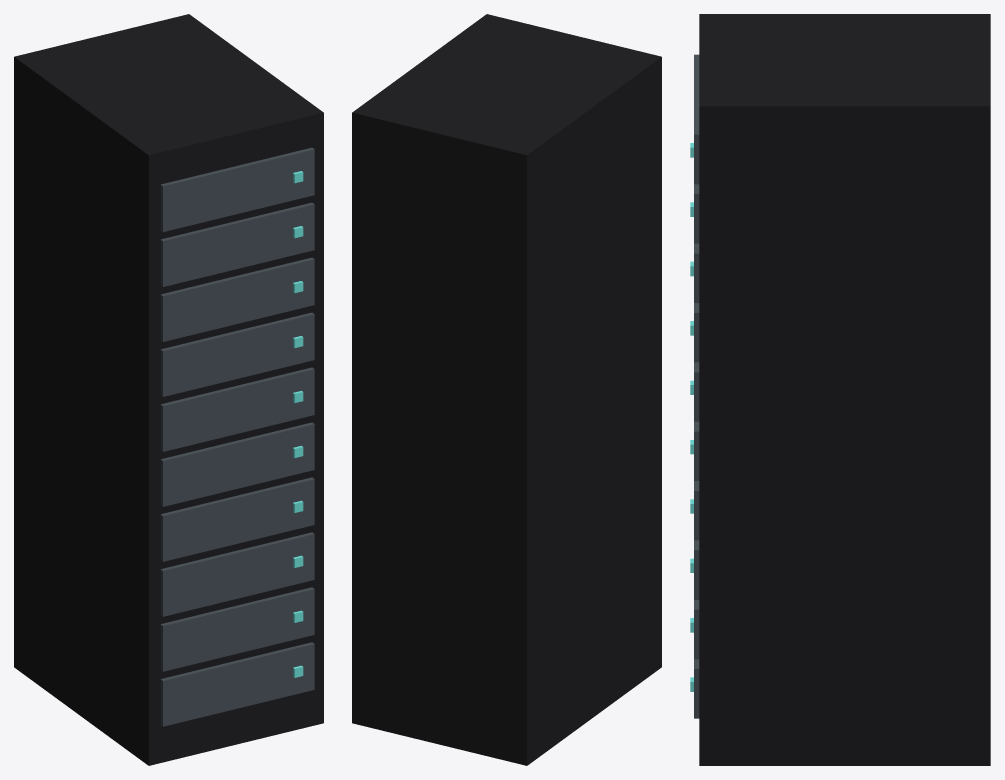
The model's file is GH_ServerRack_01.glb.
The picture shows the model from 3 angles, left to right: view 1: azimuth 30°, elevation 25°; view 2: azimuth 150°, elevation 25°; view 3: azimuth 270°, elevation 25°; orthographic projection. The views are drawn at different scales.
Visible parts, largest first — view 1: GH_ServerRack_01; view 2: GH_ServerRack_01; view 3: GH_ServerRack_01.
Boxes of the visible parts, x1=… form: GH_ServerRack_01: x1=14, y1=14, x2=323, y2=765; GH_ServerRack_01: x1=352, y1=14, x2=661, y2=765; GH_ServerRack_01: x1=690, y1=14, x2=990, y2=765.
Bounding box in the file's own units: 0.6 × 2 × 0.825.
Materials: 1 (1 with a texture image).
